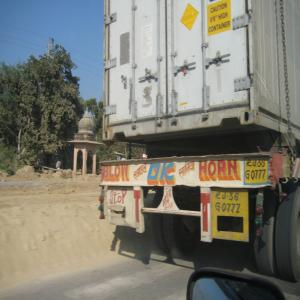Vehicle-registration-plate: (211, 189, 249, 242)
